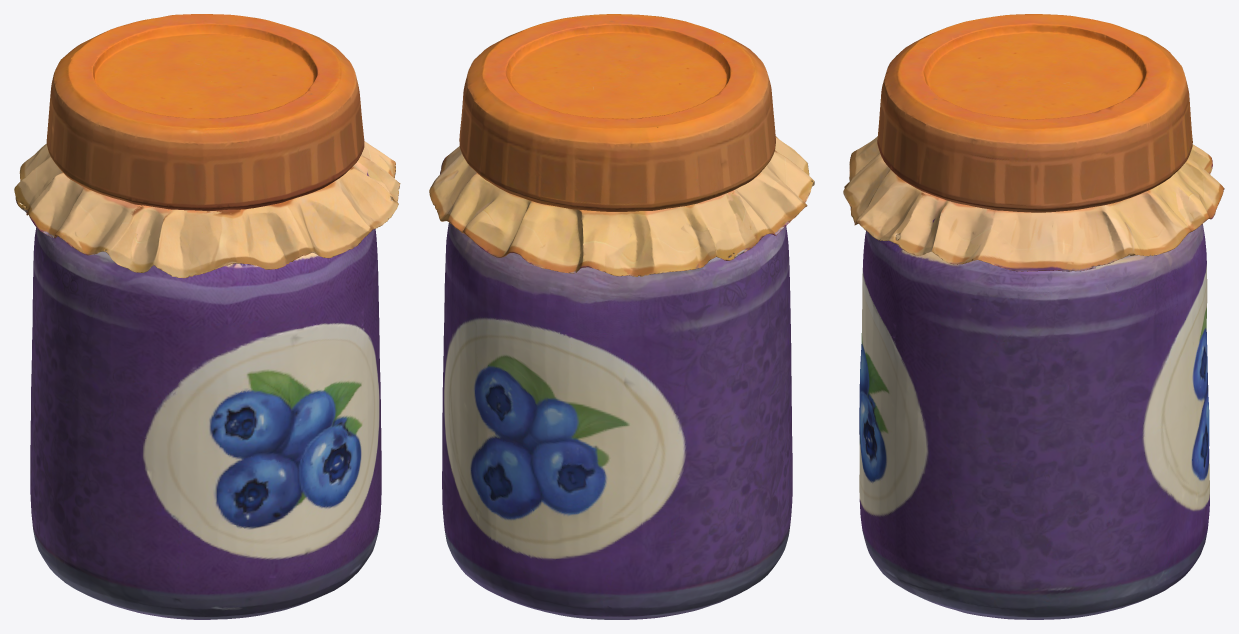
File: smallberryjam.glb
3 renders of one model, left to right at view 1: azimuth 30°, elevation 25°; view 2: azimuth 150°, elevation 25°; view 3: azimuth 270°, elevation 25°, orthographic.
Size of the model in its own units: 1.41 by 2 by 1.41.
Materials: 1 (1 with a texture image).
